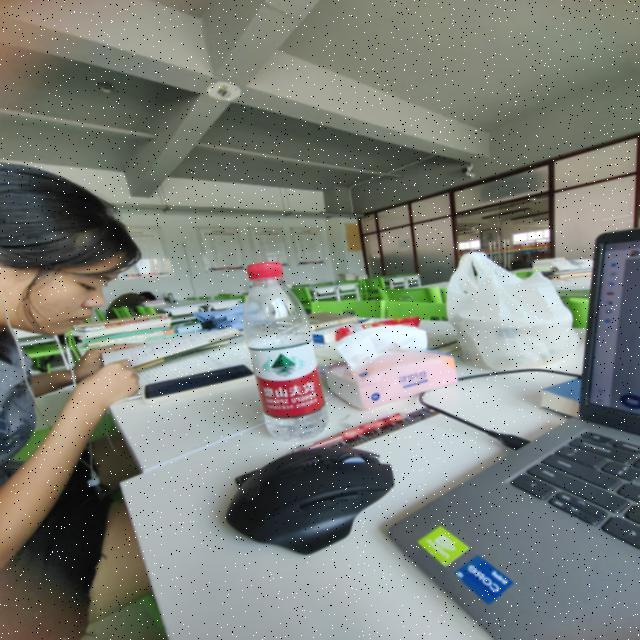bottle: (241, 260, 327, 442)
cap: (238, 253, 290, 285)
label: (245, 332, 327, 420)
